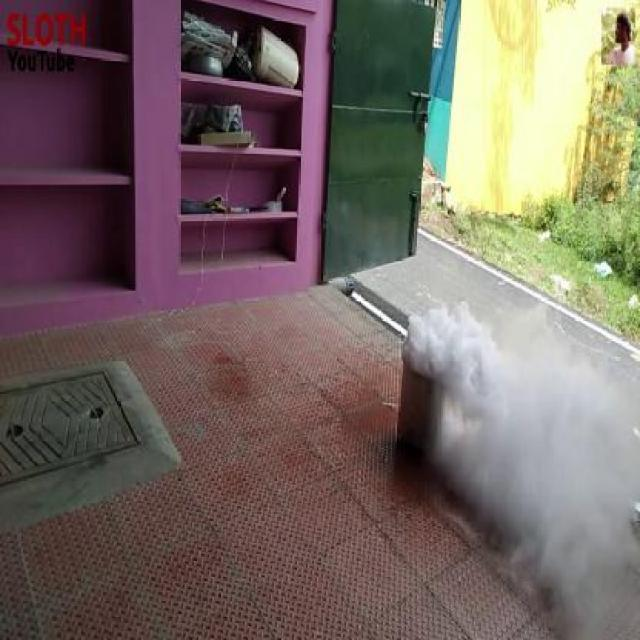smoke: (435, 292, 640, 628)
